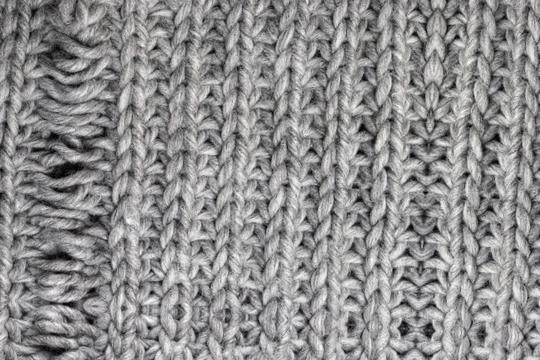slub: (22, 2, 116, 358)
